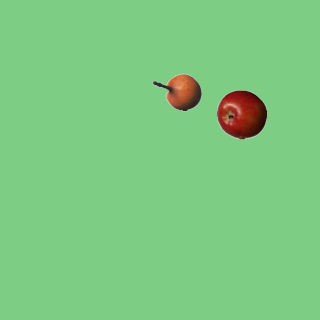Apple Braeburn: (216, 89, 266, 139)
Granadilla: (151, 67, 201, 117)
